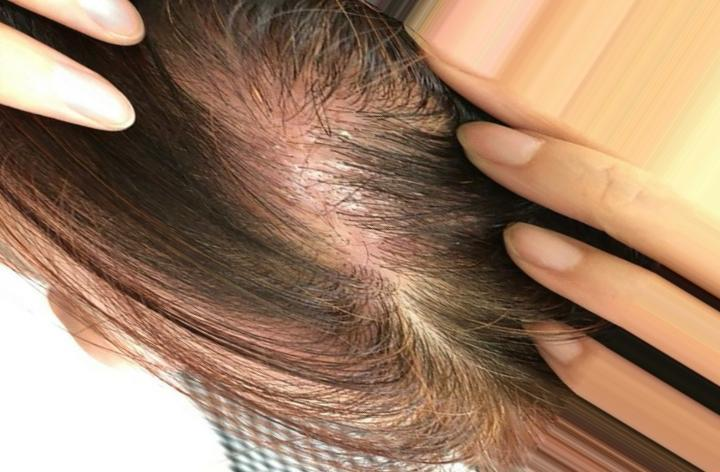Contact Dermatitis: (162, 28, 418, 294)
